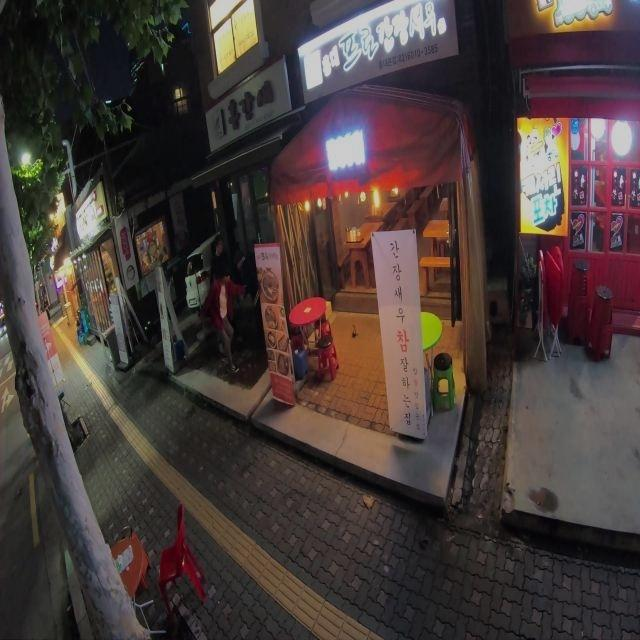fight: (195, 233, 265, 380)
